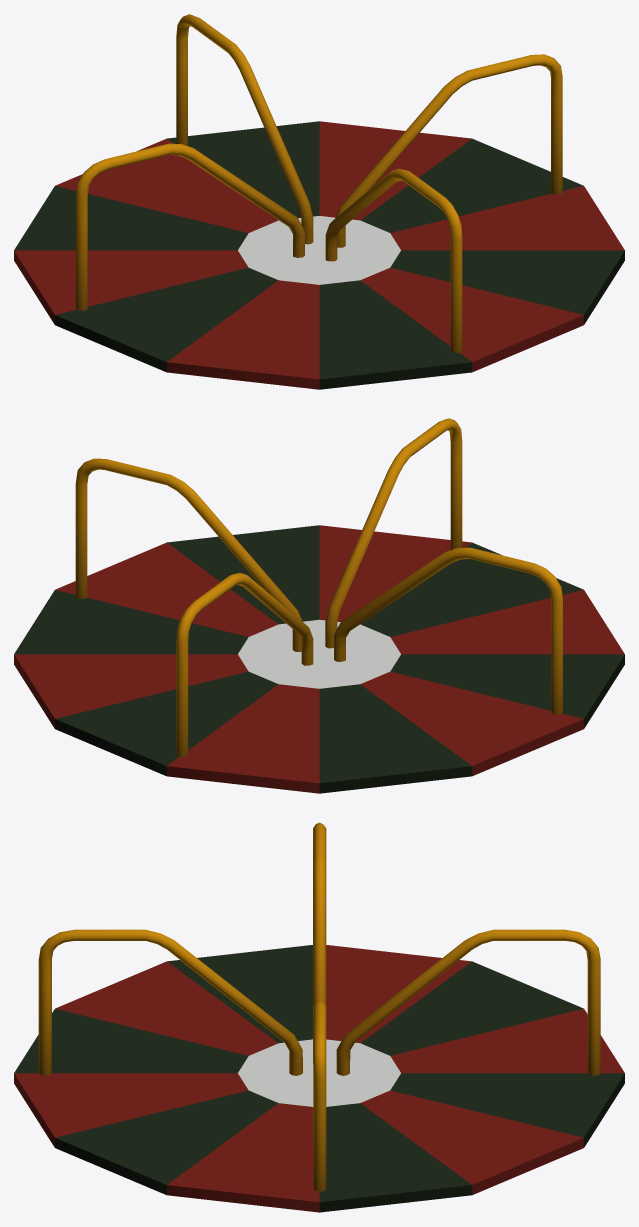
The model's file is ParkSpinner_Striped.fbx.
The picture shows the model from 3 angles, top to bottom: view 1: azimuth 30°, elevation 25°; view 2: azimuth 150°, elevation 25°; view 3: azimuth 270°, elevation 25°; orthographic projection.
Visible parts, largest first — view 1: ParkSpinner_Striped; view 2: ParkSpinner_Striped; view 3: ParkSpinner_Striped.
Boxes of the visible parts, left/top/right/bottom form: ParkSpinner_Striped: left=14, top=14, right=624, bottom=389; ParkSpinner_Striped: left=14, top=418, right=624, bottom=793; ParkSpinner_Striped: left=14, top=822, right=624, bottom=1212.
Bounding box in the file's own units: 332 × 98.81 × 332.
